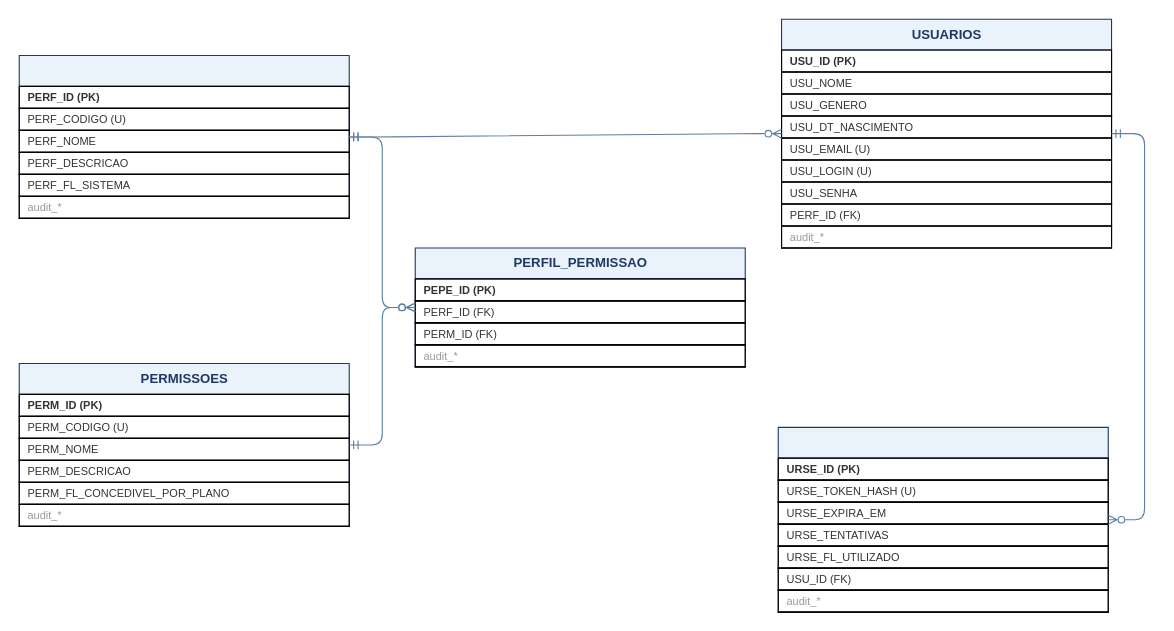
This 1174x631 diagram has some shape labels left out. The box of each missing label's shape, as (x1, y1, x2, y2) in pixels:
PERFIS: (18, 54, 349, 218)
USUARIOS_RECUPERACAO_SENHA: (777, 426, 1108, 612)
